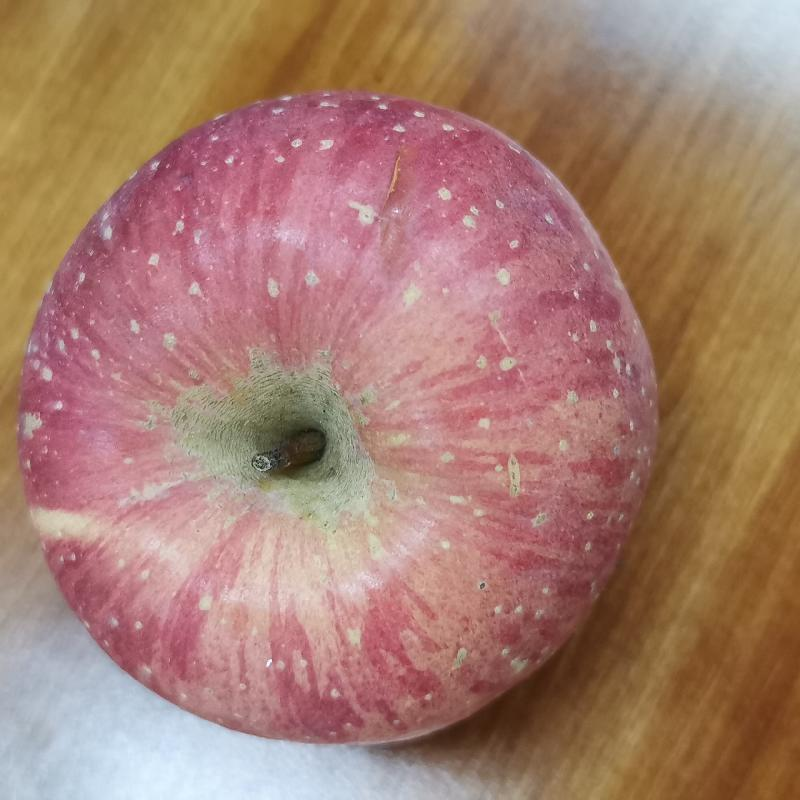apples: (19, 88, 660, 747)
